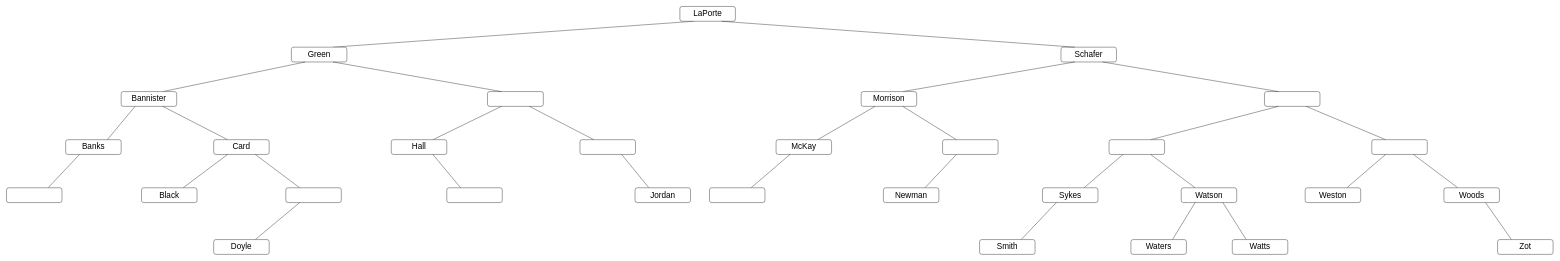
Image size: 1560x261. Some labels were removed from this diagram. Here are the shapes that lost their labels. From the top down, the centre of each, then its label:
the point at 515,98: Johnston
the point at 1292,98: West
the point at 607,146: Jones
the point at 970,146: Phillips
the point at 1137,146: Walker
the point at 1399,146: White
the point at 34,195: Appleford
the point at 313,195: Fisher
the point at 474,195: Hopper
the point at 737,195: Last
